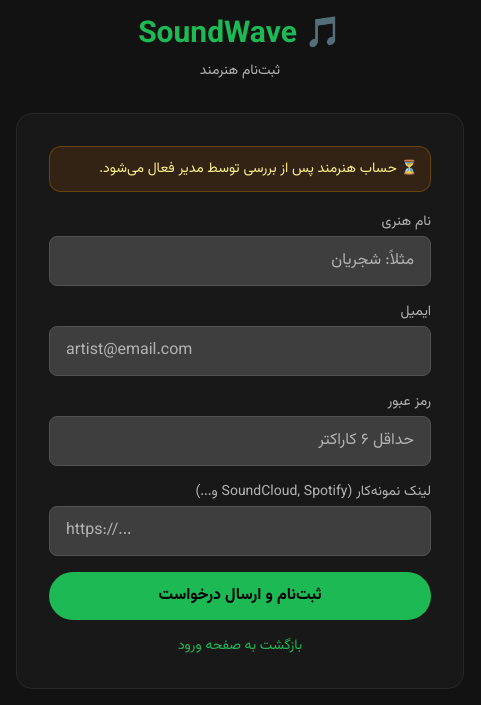
ArtistRegisterForm › ۱۰. اگر لینک نمونه‌کار خالی باشد، خطا نشان می‌دهد
The width and height of the screenshot is (481, 705).
Type "هنرمند تست" into the field with placeholder "مثلاً: شجریان" at (240, 261), box [49,236,431,286]
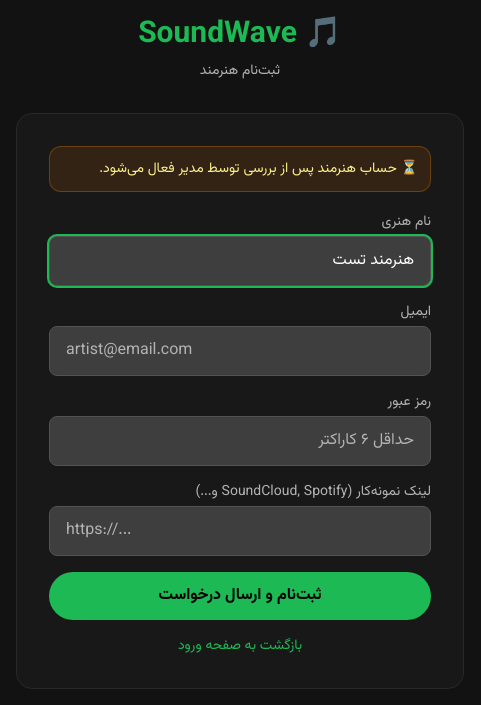
Type "artist@test.com" into the field with placeholder "artist@email.com" at (240, 351), box [49,326,431,376]
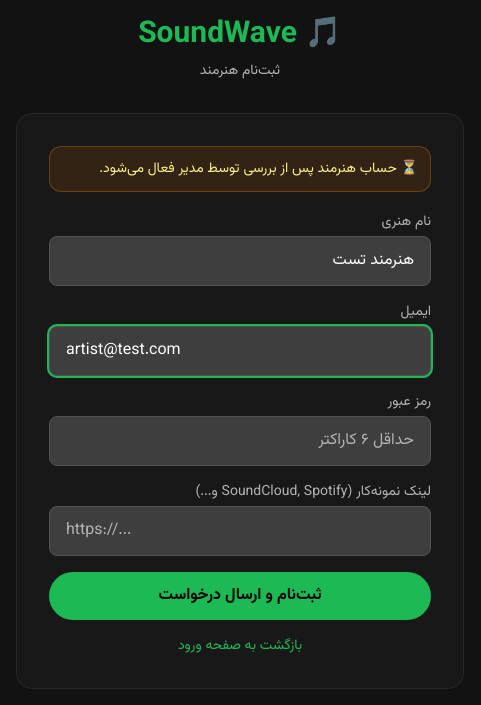
Type "pass123" into the password field with placeholder "حداقل ۶ کاراکتر" at (240, 441), box [49,416,431,466]
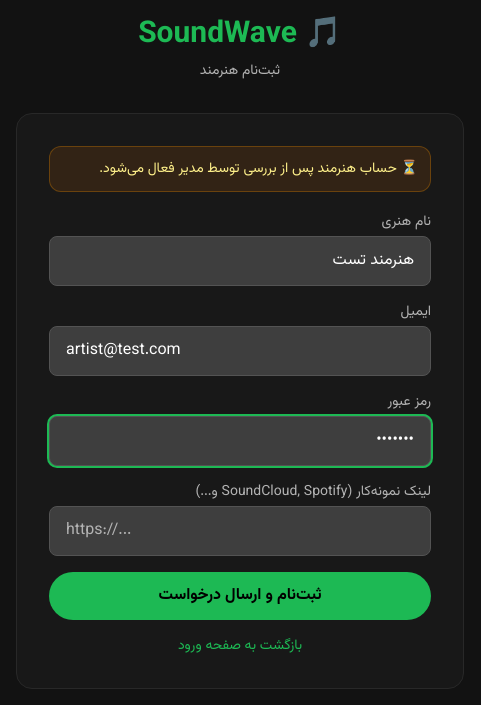
# لینک نمونه‌کار را خالی می‌گذاریم
Click the button "ثبت‌نام و ارسال درخواست" at (240, 596), box [49,572,431,620]
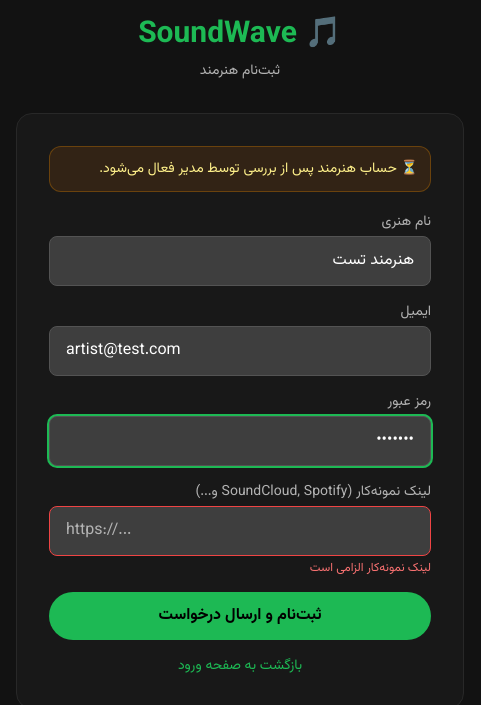
Check: the text "لینک نمونه‌کار الزامی است" is shown, box [310,559,431,577]
